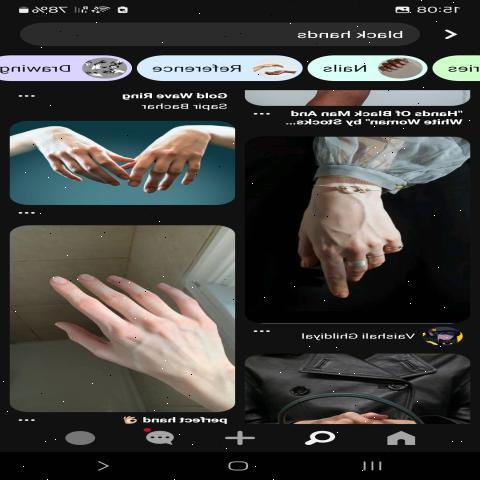Hands: (19, 253, 225, 396), (289, 162, 409, 297), (128, 124, 224, 196), (34, 117, 120, 195)
